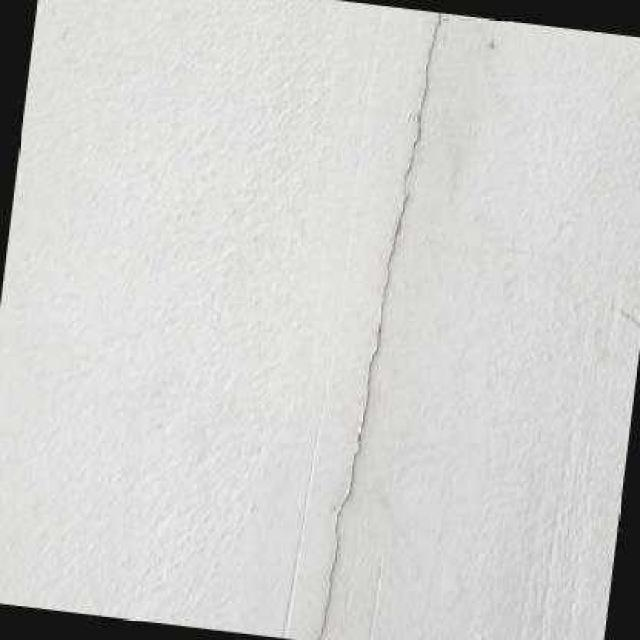D00: (314, 12, 439, 640)
